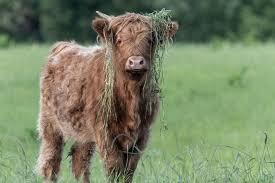cow: (39, 15, 177, 183)
